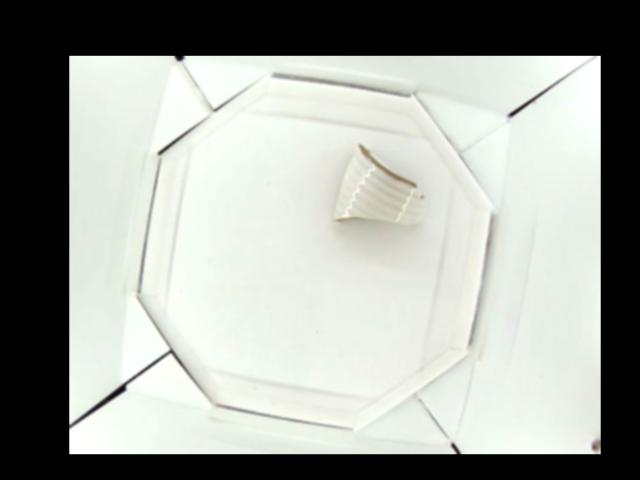China: (329, 143, 427, 225)
